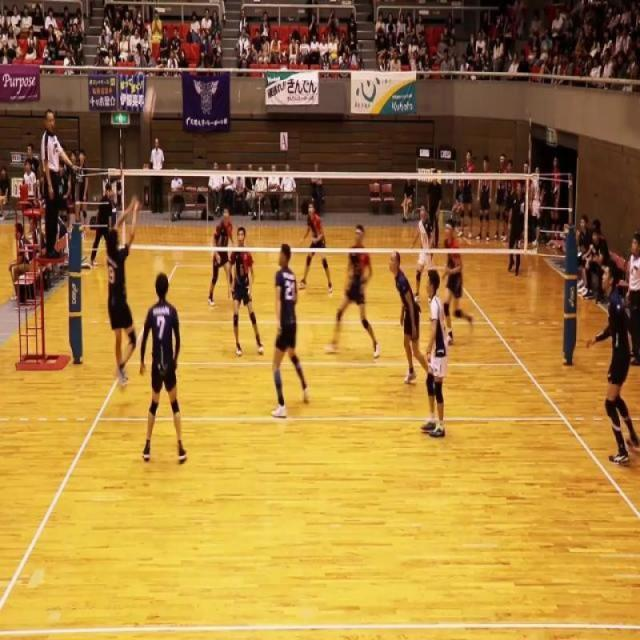volleyball: (143, 84, 156, 126)
